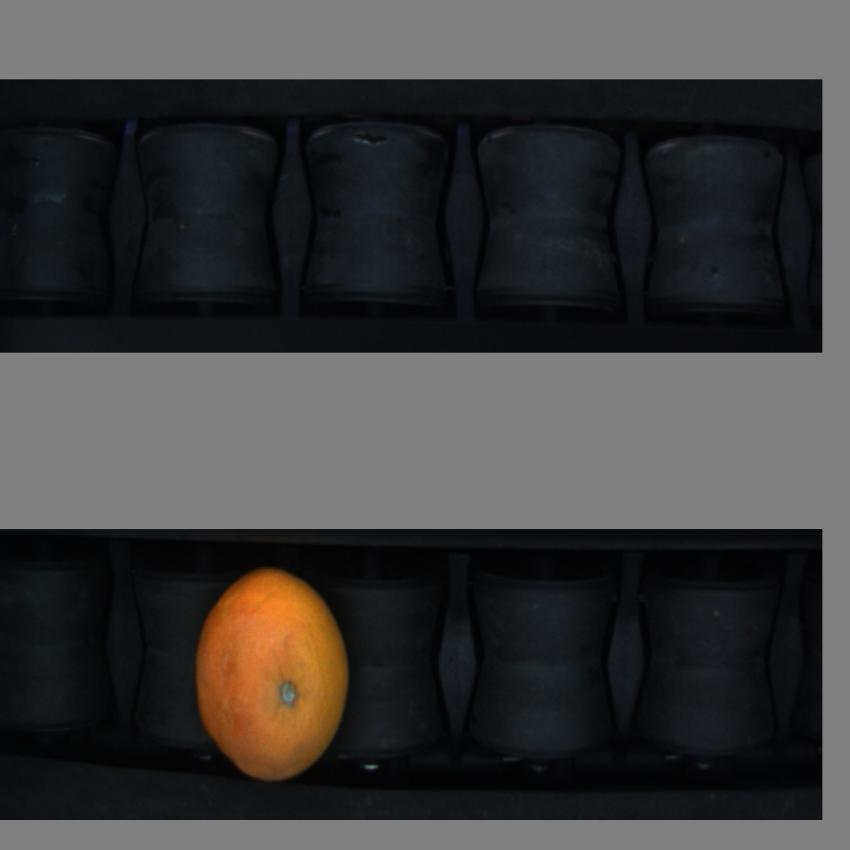Buen estado: (190, 553, 362, 799)
